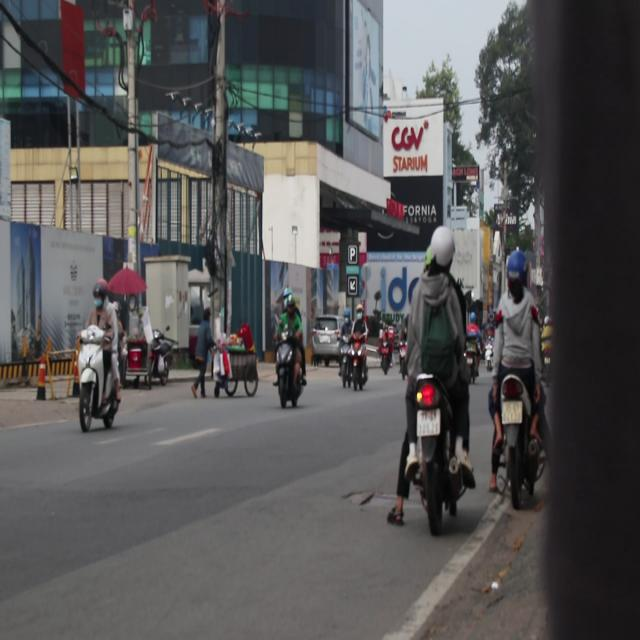car: (310, 314, 344, 360)
motorbike: (405, 369, 471, 539), (493, 364, 545, 510), (74, 324, 123, 433), (274, 333, 306, 412), (343, 334, 372, 392), (147, 332, 174, 388), (339, 336, 355, 392), (466, 330, 482, 382), (378, 331, 394, 375)
